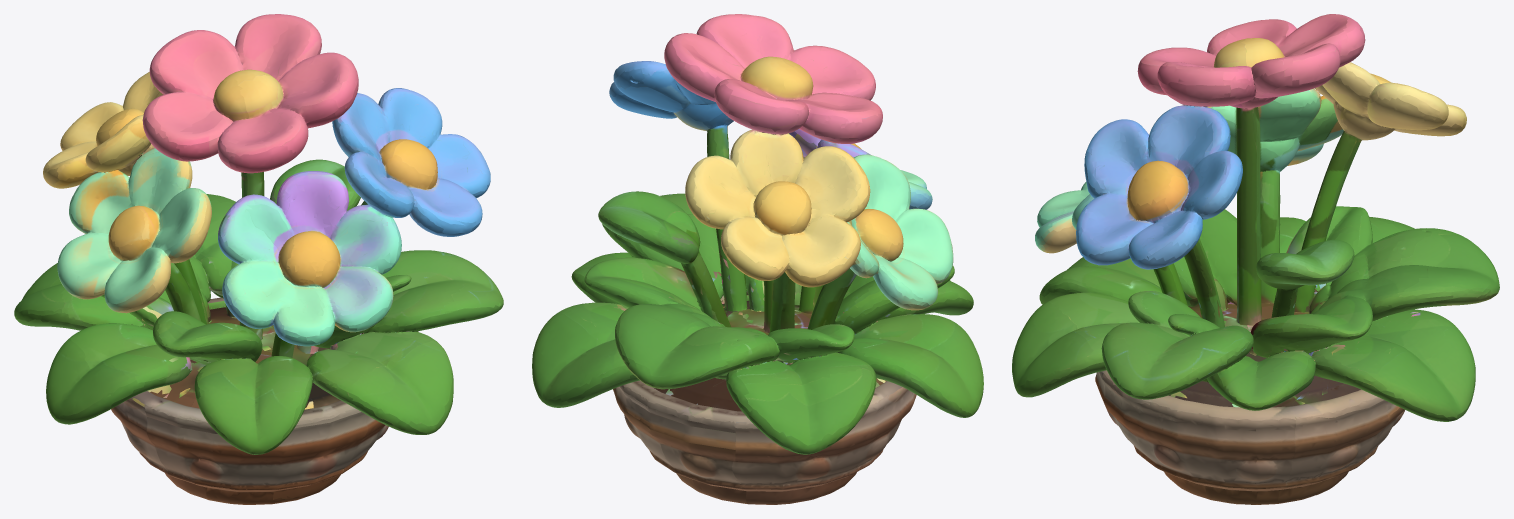
The model's file is nat_flowerbed_01.glb.
3 renders of one model, left to right at view 1: azimuth 30°, elevation 25°; view 2: azimuth 150°, elevation 25°; view 3: azimuth 270°, elevation 25°, orthographic. The views are drawn at different scales.
Visible parts, largest first — view 1: geometry_0; view 2: geometry_0; view 3: geometry_0.
Boxes of the visible parts, left/top/right/bottom form: geometry_0: left=14, top=14, right=503, bottom=504; geometry_0: left=532, top=14, right=983, bottom=504; geometry_0: left=1012, top=14, right=1499, bottom=504.
Size of the model in its own units: 0.1982 by 0.2 by 0.1985.
1 material, 1 textured.
